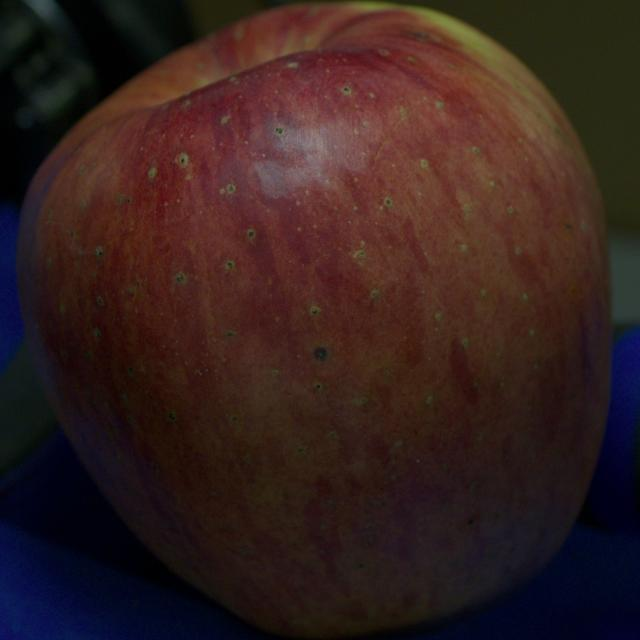apple: (17, 2, 611, 638)
pest: (405, 30, 434, 41), (314, 347, 328, 360)
